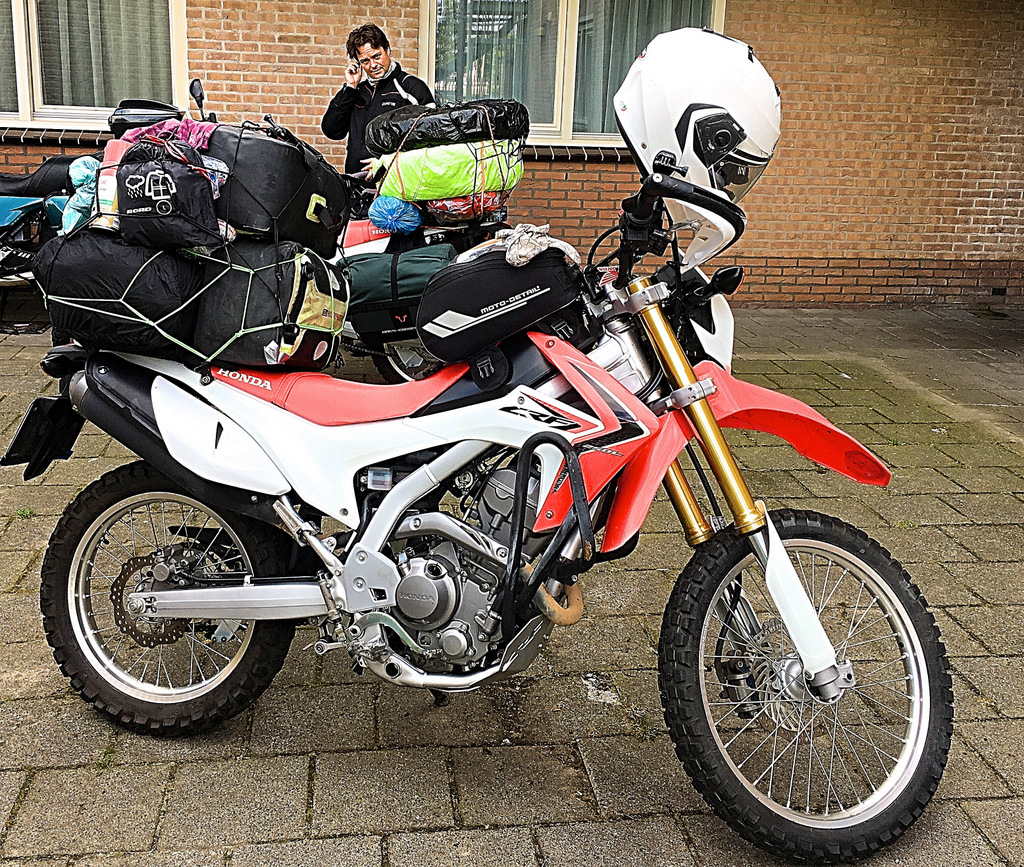motorbike: (16, 204, 981, 850)
